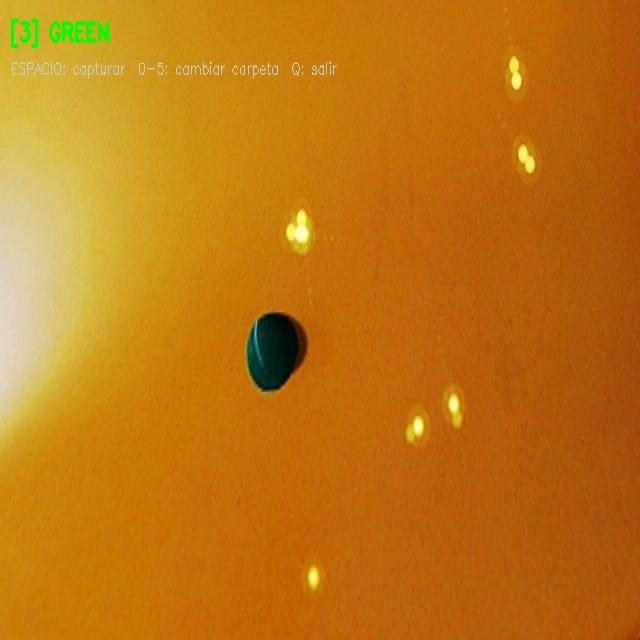green: (245, 306, 302, 394)
